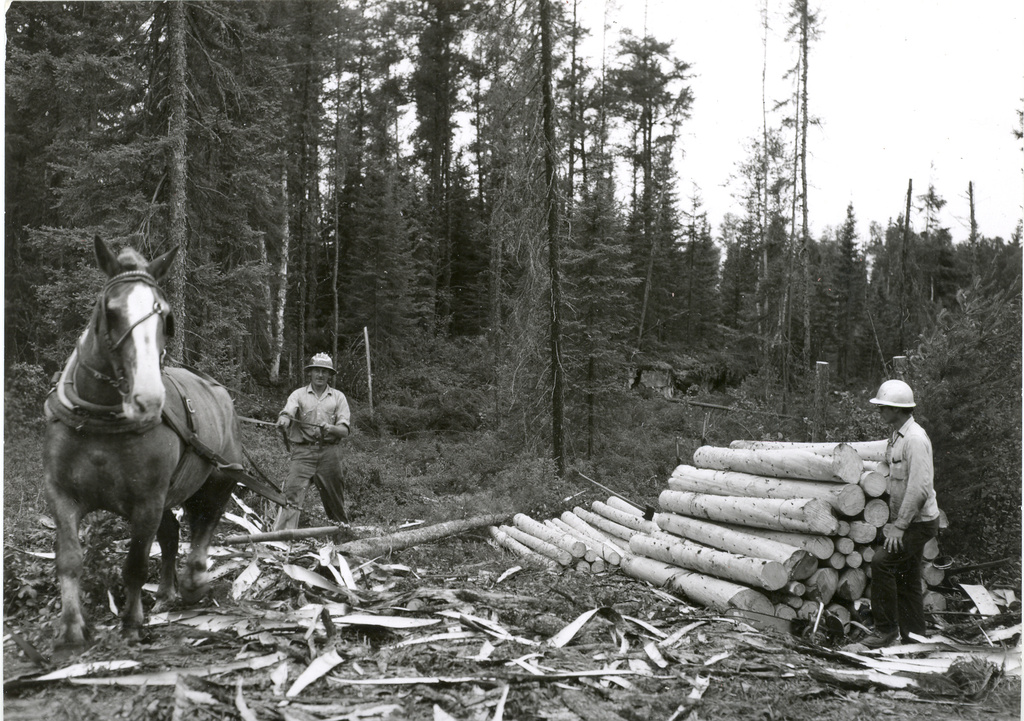Person: (858, 379, 941, 647), (273, 352, 350, 530)
